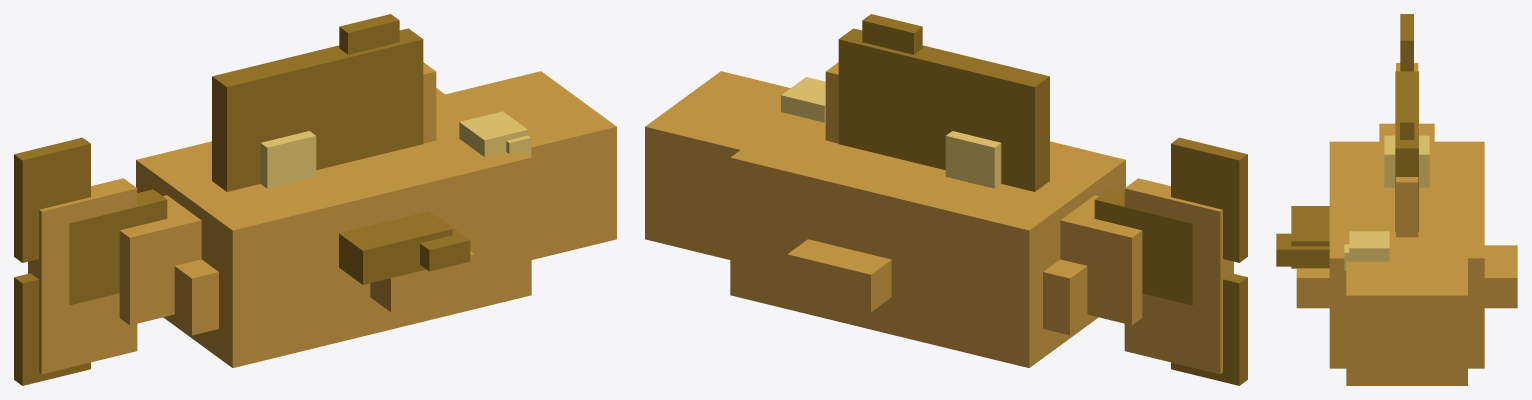
File: fish_gilt_amberjack.glb
3 renders of one model, left to right at view 1: azimuth 30°, elevation 25°; view 2: azimuth 150°, elevation 25°; view 3: azimuth 270°, elevation 25°, orthographic. The views are drawn at different scales.
Parts seen in each view (by area): view 1: FishArt_body, FishArt_dorsal, FishArt_tail, FishArt_pectoral, FishArt_specialty, FishArt_eye; view 2: FishArt_body, FishArt_dorsal, FishArt_tail, FishArt_specialty, FishArt_eye; view 3: FishArt_body, FishArt_pectoral, FishArt_dorsal, FishArt_eye, FishArt_specialty, FishArt_tail.
Part boxes in pixels (left/top/right/bottom): FishArt_body: left=28, top=62, right=616, bottom=374; FishArt_dorsal: left=212, top=14, right=423, bottom=191; FishArt_tail: left=14, top=137, right=167, bottom=385; FishArt_pectoral: left=339, top=211, right=470, bottom=284; FishArt_specialty: left=260, top=131, right=316, bottom=188; FishArt_eye: left=459, top=111, right=531, bottom=156; FishArt_body: left=645, top=62, right=1233, bottom=374; FishArt_dorsal: left=838, top=14, right=1049, bottom=191; FishArt_tail: left=1094, top=137, right=1247, bottom=385; FishArt_specialty: left=945, top=131, right=1001, bottom=188; FishArt_eye: left=781, top=77, right=825, bottom=122; FishArt_body: left=1296, top=63, right=1517, bottom=385; FishArt_pectoral: left=1276, top=206, right=1329, bottom=268; FishArt_dorsal: left=1395, top=71, right=1418, bottom=231; FishArt_eye: left=1344, top=231, right=1389, bottom=270; FishArt_specialty: left=1384, top=135, right=1429, bottom=187; FishArt_tail: left=1400, top=14, right=1413, bottom=71.
Bounding box in the file's own units: 0.3091 × 0.1442 × 0.1439.
